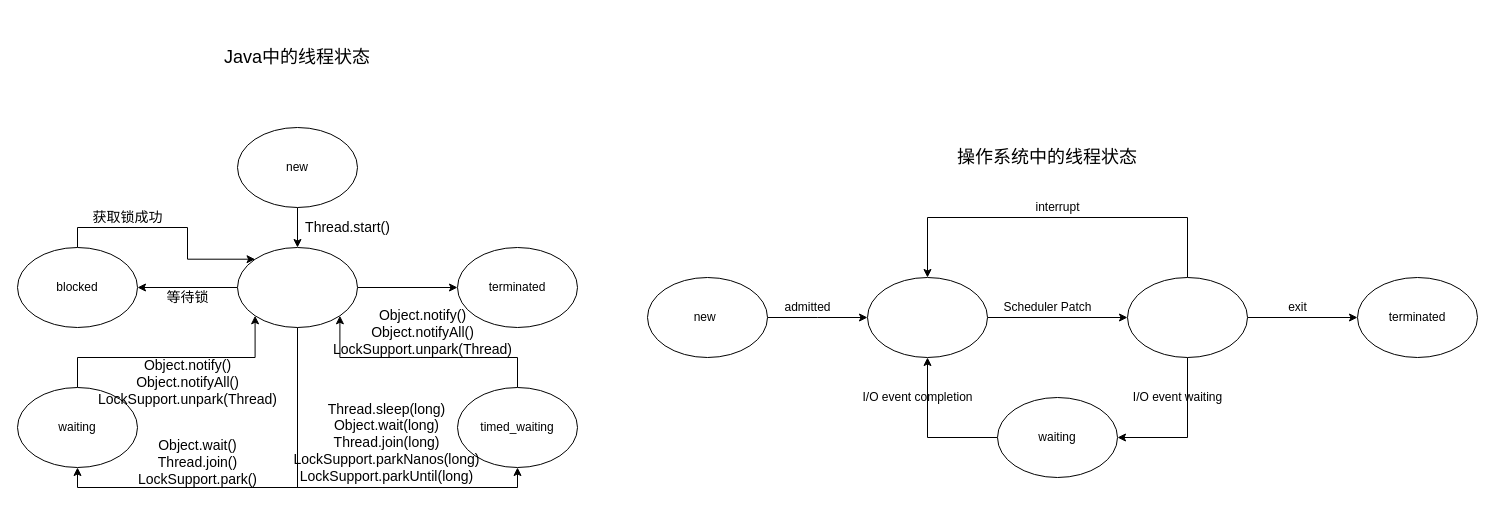
This 1495x513 diagram has some shape labels left out. Each missing label, with the box of its shape:
ready: (866, 276, 988, 358)
runnable （包括ready 和 running状态）: (236, 246, 358, 328)
running: (1126, 276, 1248, 358)
